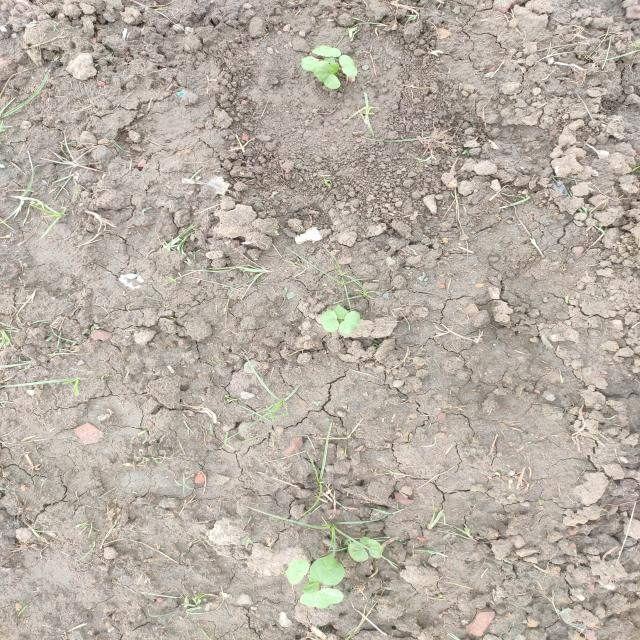seedling: (309, 554, 345, 586), (299, 588, 344, 609), (286, 559, 309, 585), (339, 311, 361, 334), (315, 69, 340, 89), (338, 55, 358, 78), (301, 56, 328, 73), (348, 542, 369, 561), (321, 310, 339, 332), (302, 575, 320, 593), (367, 539, 383, 559), (312, 46, 341, 57), (334, 304, 349, 319), (320, 63, 340, 74)
